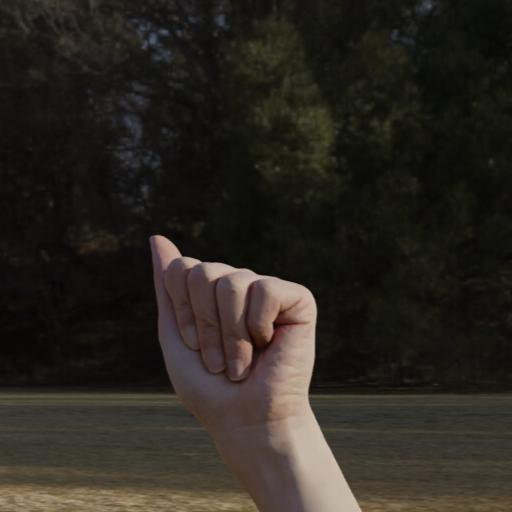A: (130, 216, 363, 512)
